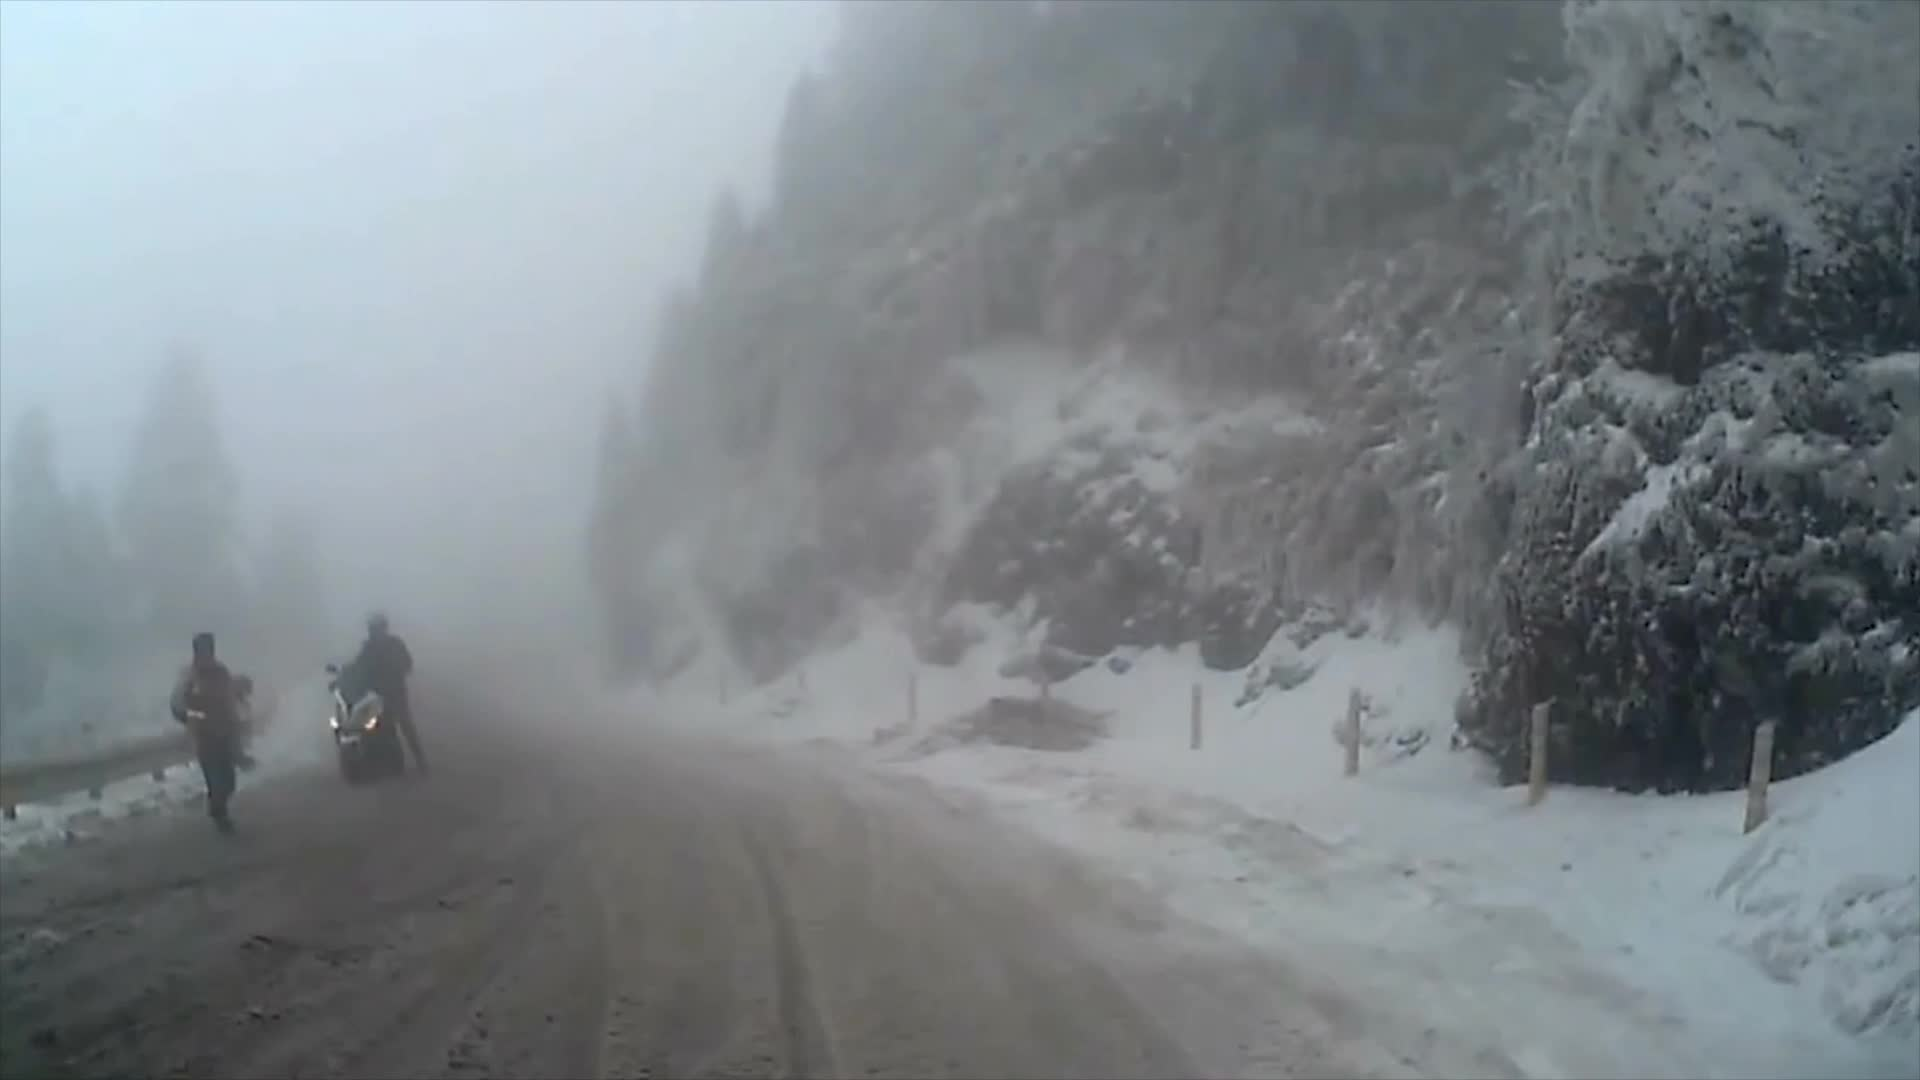pedestrian: (170, 636, 259, 841), (342, 612, 433, 791)
